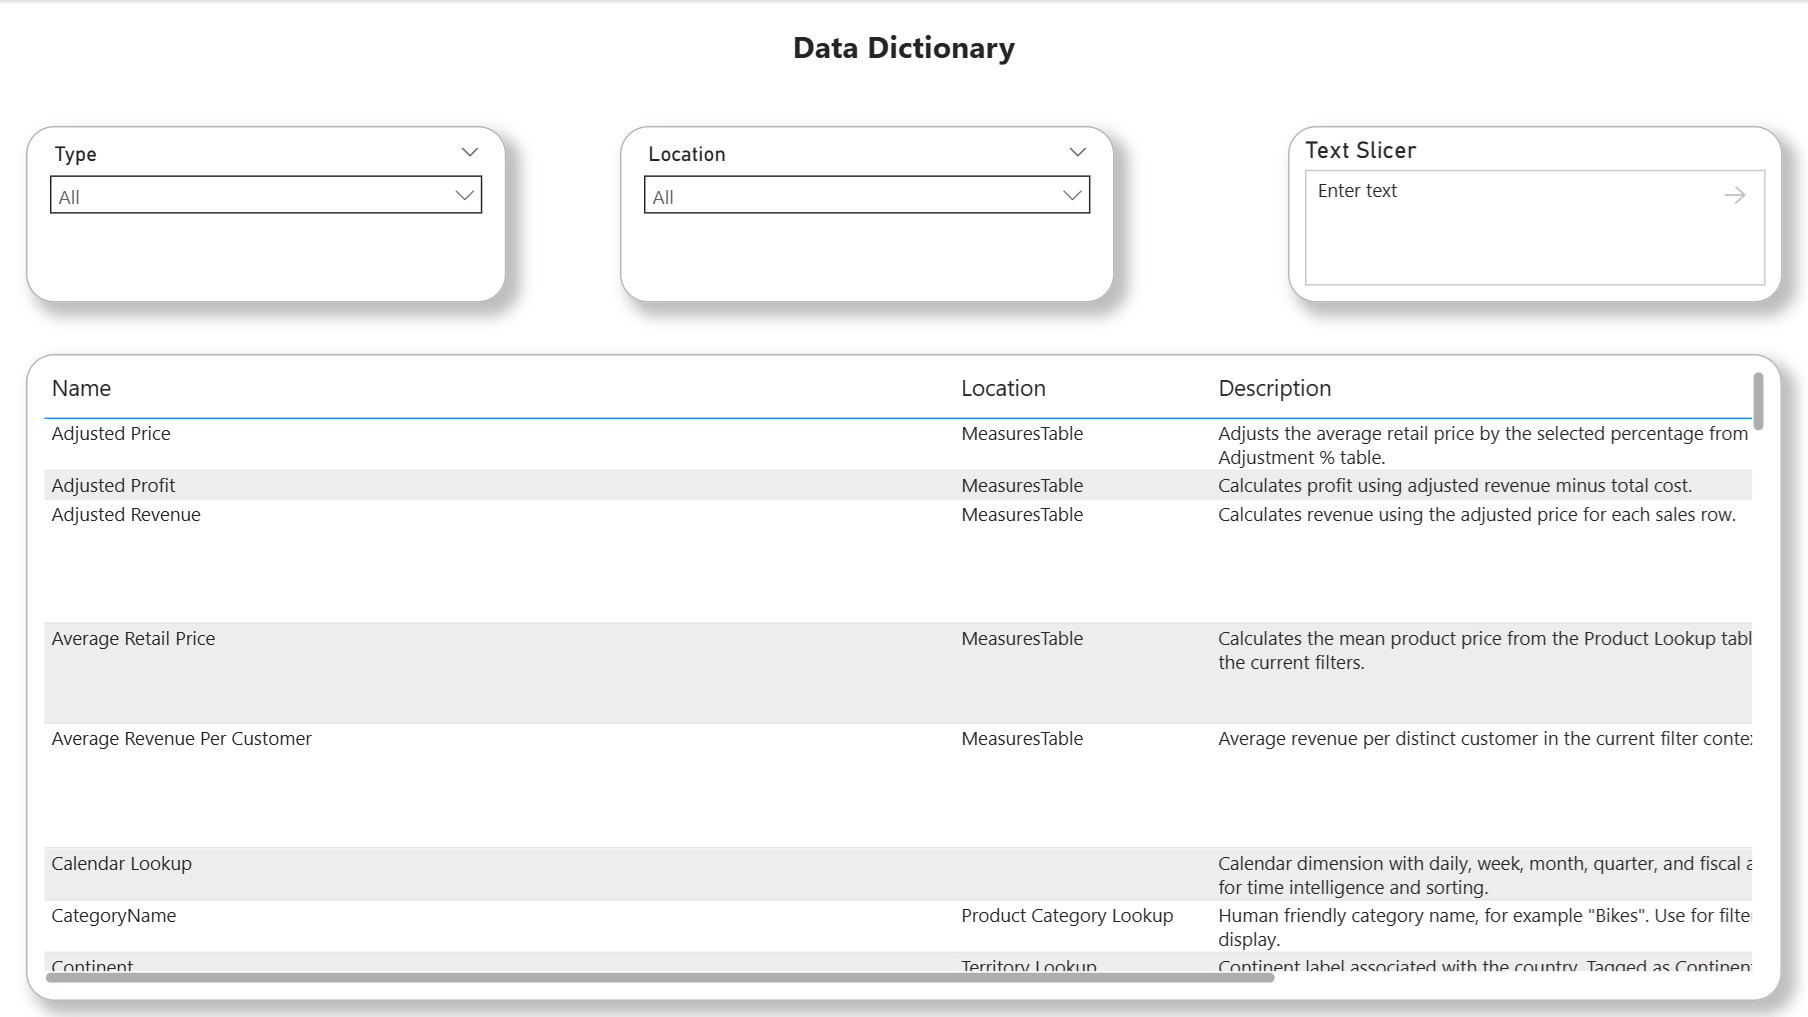

What the dashboard file says about the page in this screenshot:
{"tool":"powerbi","page":{"name":"Data Dictionary","canvas":[1280,720],"ordinal":4},"visuals":[{"type":"tableEx","fields":{"Values":["Data Dictionary.Name","Data Dictionary.Location","Data Dictionary.Description","Data Dictionary.Expression"]},"box":[18.6,250.9,1242.8,457.6],"z":0},{"type":"slicer","fields":{"Values":["Data Dictionary.Type"]},"box":[18.6,89.4,340.3,125],"z":1000},{"type":"textbox","box":[454.7,12.8,370.5,38.3],"z":2000},{"type":"slicer","fields":{"Values":["Data Dictionary.Location"]},"box":[439.1,89.4,350,125],"z":3000},{"type":"textSlicer","title":"Text Slicer","box":[911.8,89.4,349.6,125],"z":4000}]}

Visuals, with their boxes in screenshot pixels (x1, y1, x2, y2), scaled from the page's 1280x720 canvas onto the 1808x1017 screenshot:
tableEx - Data Dictionary.Name x Data Dictionary.Location: [26,354,1782,1001]
slicer - Data Dictionary.Type: [26,126,507,303]
textbox: [642,18,1166,72]
slicer - Data Dictionary.Location: [620,126,1115,303]
"Text Slicer" textSlicer: [1288,126,1782,303]
